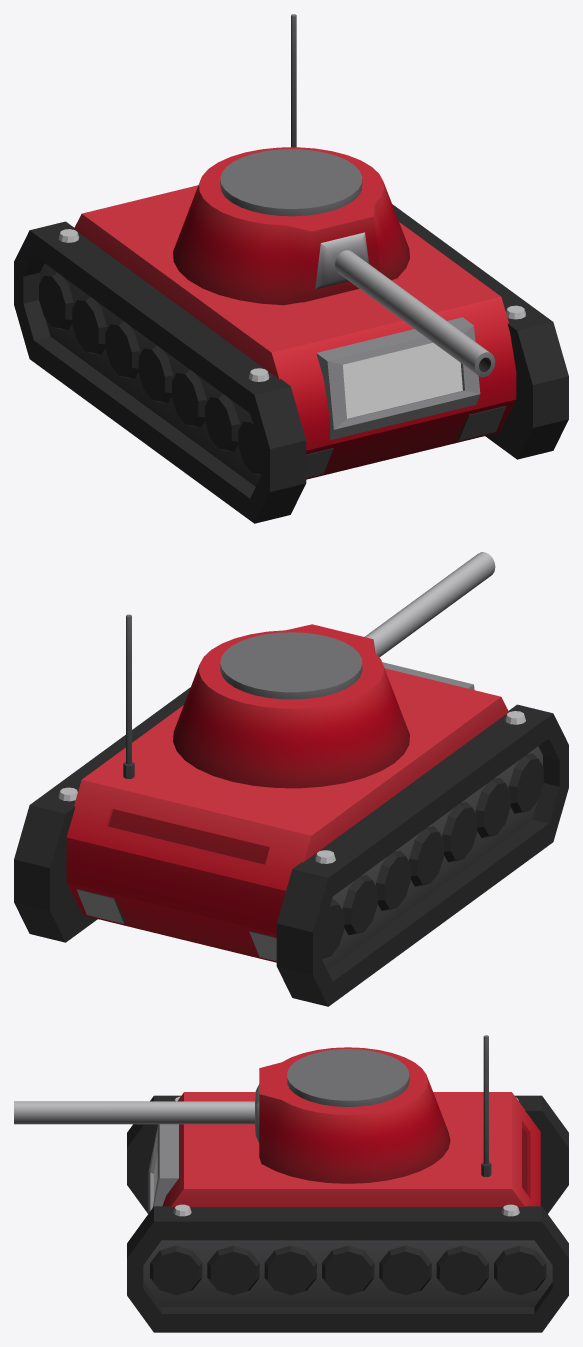
The model's file is tank.fbx.
3 renders of one model, top to bottom at view 1: azimuth 30°, elevation 25°; view 2: azimuth 150°, elevation 25°; view 3: azimuth 270°, elevation 25°, orthographic. The views are drawn at different scales.
Parts seen in each view (by area): view 1: tank, Circle.001; view 2: tank, Circle.001; view 3: tank, Circle.001.
Boxes of the visible parts, bbox=[...] form: tank: bbox=[14, 14, 568, 523]; Circle.001: bbox=[173, 147, 495, 376]; tank: bbox=[14, 614, 568, 1006]; Circle.001: bbox=[173, 552, 495, 788]; tank: bbox=[127, 1035, 568, 1332]; Circle.001: bbox=[14, 1047, 450, 1183].
Size of the model in its own units: 350 by 347 by 652.
Materials: 1 (1 with a texture image).
